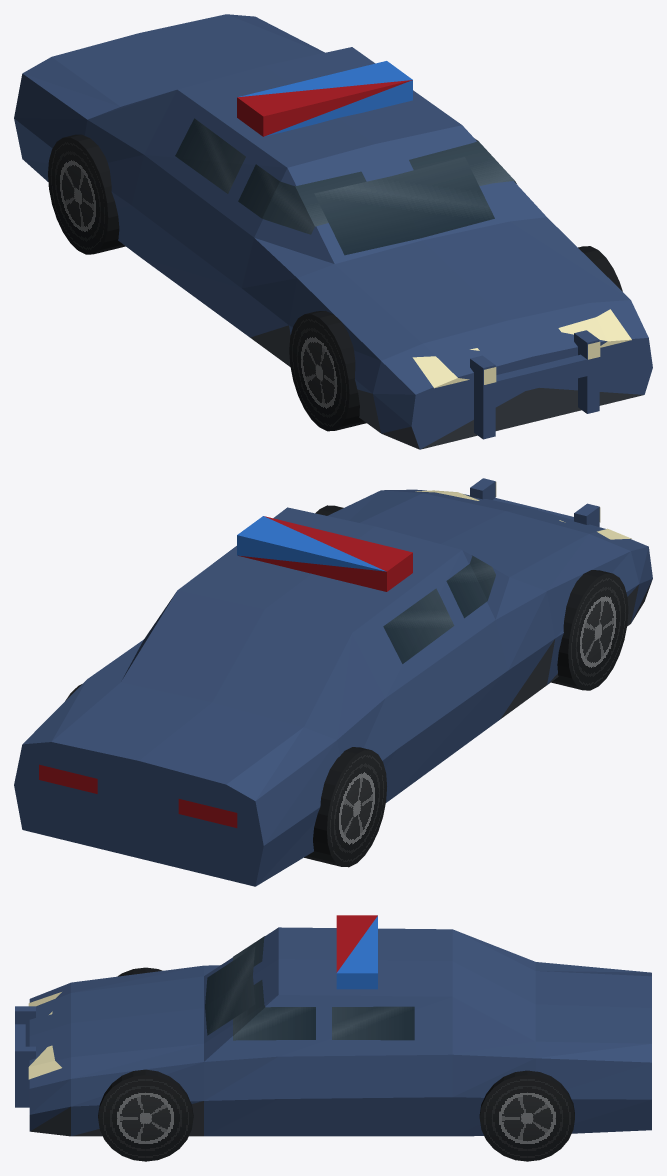
Rendered from interceptor.obj.
3 views of the same model, one above another, from view 1: azimuth 30°, elevation 25°; view 2: azimuth 150°, elevation 25°; view 3: azimuth 270°, elevation 25° (orthographic). The views are drawn at different scales.
Parts seen in each view (by area): view 1: interceptor; view 2: interceptor; view 3: interceptor.
Boxes of the visible parts, x1,y1,x2,y2 form: interceptor: (14,14,652,449); interceptor: (14,478,652,886); interceptor: (15,915,651,1161).
Bounding box in the file's own units: 2 × 1.42 × 5.02.
Materials: 8 (2 with a texture image).
